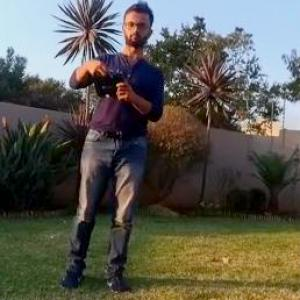follow: (53, 0, 170, 299)
